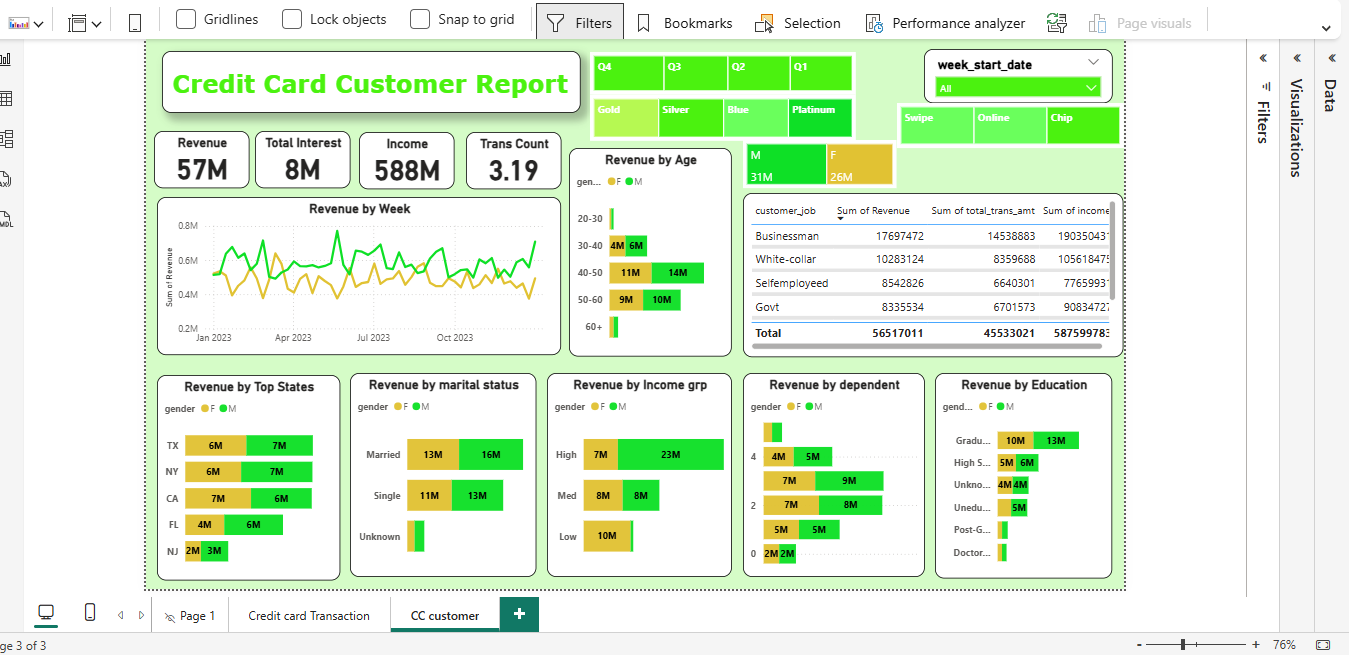

This screenshot's page, from the dashboard's own definition file:
{"tool":"powerbi","page":{"name":"CC customer","canvas":[1280,720],"ordinal":2},"visuals":[{"type":"textbox","box":[20.6,16.2,548.1,80.8],"z":0},{"type":"barChart","title":"Revenue by Income grp","fields":{"Y":["Sum(public cc_detail.Revenue)"],"Category":["public cust_detail.IncomeGroup"],"Series":["public cust_detail.gender"]},"box":[524.6,437.9,242.4,267.4],"z":1000},{"type":"tableEx","fields":{"Values":["public cust_detail.customer_job","Sum(public cc_detail.Revenue)","Sum(public cc_detail.total_trans_amt)","Sum(public cust_detail.income)"]},"box":[781.7,201.3,498.1,214.5],"z":2000},{"type":"card","title":"Revenue","fields":{"Values":["Sum(public cc_detail.Revenue)"]},"box":[10.3,120.5,124.9,74.9],"z":3000},{"type":"card","title":"Income","fields":{"Values":["Sum(public cust_detail.income)"]},"box":[279.2,122,124.9,74.9],"z":4000},{"type":"card","title":"Total Interest","fields":{"Values":["Sum(public cc_detail.interest_earned)"]},"box":[142.5,120.5,124.9,74.9],"z":5000},{"type":"card","title":"Trans Count","fields":{"Values":["Avg(public cust_detail.cust_satisfaction_score)"]},"box":[418.8,122,124.9,74.9],"z":6000},{"type":"treemap","fields":{"Group":["public cc_detail.qtr"],"Values":["Avg(public cc_detail.client_num)"]},"box":[581.9,17.6,348.2,55.8],"z":7000},{"type":"slicer","fields":{"Values":["public cc_detail.week_start_date"]},"box":[1018.3,13.2,246.9,70.5],"z":8000},{"type":"treemap","fields":{"Group":["public cc_detail.card_category"],"Values":["Avg(public cc_detail.client_num)"]},"box":[581.9,73.5,348.2,60.2],"z":9000},{"type":"lineChart","title":"Revenue by Week","fields":{"Y":["Sum(public cc_detail.Revenue)"],"Category":["public cc_detail.week_start_date.Variation.Date Hierarchy.Year","public cc_detail.week_start_date.Variation.Date Hierarchy.Quarter","public cc_detail.week_start_date.Variation.Date Hierarchy.Month","public cc_detail.week_start_date.Variation.Date Hierarchy.Day"],"Series":["public cust_detail.gender"]},"box":[14.7,207.2,529,207.2],"z":10000},{"type":"treemap","fields":{"Group":["public cust_detail.gender"],"Values":["Sum(public cc_detail.Revenue)"]},"box":[781.7,132.2,201.3,63.2],"z":11000},{"type":"barChart","title":"Revenue by Age","fields":{"Y":["Sum(public cc_detail.Revenue)"],"Category":["public cust_detail.Agegroup"],"Series":["public cust_detail.gender"]},"box":[554,142.5,213.1,273.3],"z":12000},{"type":"barChart","title":"Revenue by dependent","fields":{"Y":["Sum(public cc_detail.Revenue)"],"Category":["public cust_detail.dependent_count"],"Series":["public cust_detail.gender"]},"box":[781.7,437.9,238,267.4],"z":13000},{"type":"barChart","title":"Revenue by Education","fields":{"Y":["Sum(public cc_detail.Revenue)"],"Category":["public cust_detail.education_level"],"Series":["public cust_detail.gender"]},"box":[1033,437.9,232.2,268.9],"z":14000},{"type":"barChart","title":"Revenue by  Top States","fields":{"Y":["Sum(public cc_detail.Revenue)"],"Category":["public cust_detail.state_cd"],"Series":["public cust_detail.gender"]},"box":[14.7,439.3,239.5,268.9],"z":15000},{"type":"barChart","title":"Revenue by marital status","fields":{"Y":["Sum(public cc_detail.Revenue)"],"Category":["public cust_detail.marital_status","public cust_detail.dependent_count"],"Series":["public cust_detail.gender"]},"box":[267.4,437.9,243.9,267.4],"z":16000},{"type":"treemap","fields":{"Group":["public cc_detail.use_chip"],"Values":["Avg(public cc_detail.client_num)"]},"box":[983,83.8,296.8,58.8],"z":17000}]}

Visuals, with their boxes on the page's 1280x720 design canvas (x1, y1, x2, y2). These are canvas units, not pixel positions in the 1349x655 screenshot, which may show the page scaled, cropped or inside an application window:
textbox: {"x1": 21, "y1": 16, "x2": 569, "y2": 97}
"Revenue by Income grp" barChart: {"x1": 525, "y1": 438, "x2": 767, "y2": 705}
tableEx - public cust_detail.customer_job x Sum(public cc_detail.Revenue): {"x1": 782, "y1": 201, "x2": 1280, "y2": 416}
"Revenue" card: {"x1": 10, "y1": 120, "x2": 135, "y2": 195}
"Income" card: {"x1": 279, "y1": 122, "x2": 404, "y2": 197}
"Total Interest" card: {"x1": 142, "y1": 120, "x2": 267, "y2": 195}
"Trans Count" card: {"x1": 419, "y1": 122, "x2": 544, "y2": 197}
treemap - public cc_detail.qtr x Avg(public cc_detail.client_num): {"x1": 582, "y1": 18, "x2": 930, "y2": 73}
slicer - public cc_detail.week_start_date: {"x1": 1018, "y1": 13, "x2": 1265, "y2": 84}
treemap - public cc_detail.card_category x Avg(public cc_detail.client_num): {"x1": 582, "y1": 74, "x2": 930, "y2": 134}
"Revenue by Week" lineChart: {"x1": 15, "y1": 207, "x2": 544, "y2": 414}
treemap - public cust_detail.gender x Sum(public cc_detail.Revenue): {"x1": 782, "y1": 132, "x2": 983, "y2": 195}
"Revenue by Age" barChart: {"x1": 554, "y1": 142, "x2": 767, "y2": 416}
"Revenue by dependent" barChart: {"x1": 782, "y1": 438, "x2": 1020, "y2": 705}
"Revenue by Education" barChart: {"x1": 1033, "y1": 438, "x2": 1265, "y2": 707}
"Revenue by  Top States" barChart: {"x1": 15, "y1": 439, "x2": 254, "y2": 708}
"Revenue by marital status" barChart: {"x1": 267, "y1": 438, "x2": 511, "y2": 705}
treemap - public cc_detail.use_chip x Avg(public cc_detail.client_num): {"x1": 983, "y1": 84, "x2": 1280, "y2": 143}
